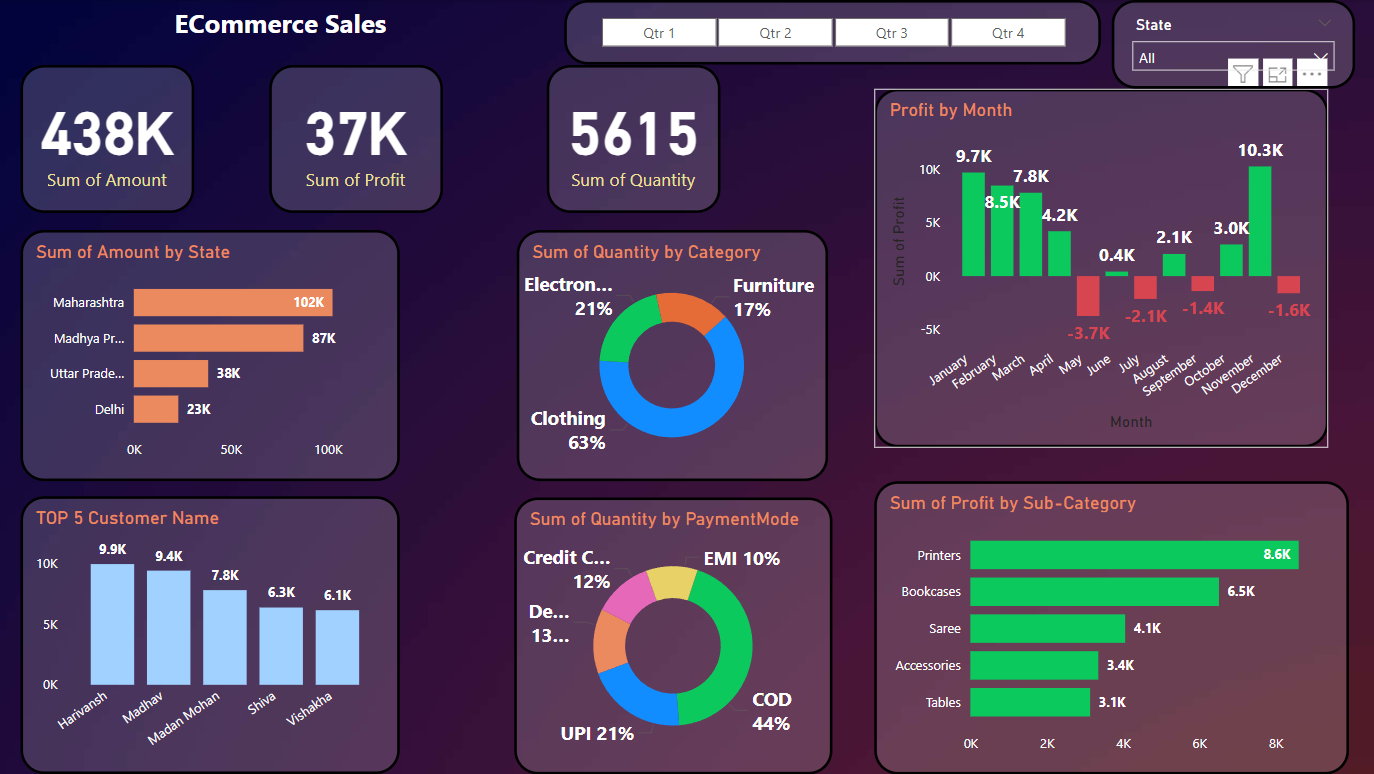

The page's visual inventory and layout, read from the dashboard file:
{"tool":"powerbi","page":{"name":"Page 1","canvas":[1280,720],"ordinal":0},"visuals":[{"type":"columnChart","title":"Profit by Month","fields":{"Category":["Orders.Order Date.Variation.Date Hierarchy.Month"],"Y":["Details.Profit"]},"box":[815.1,82.3,422.6,333.4],"z":0},{"type":"textbox","box":[159.2,0,227.8,45.3],"z":1000},{"type":"barChart","fields":{"Category":["Details.Sub-Category"],"Y":["Details.Profit"]},"box":[815.1,447.3,441.9,273.1],"z":2000},{"type":"donutChart","fields":{"Y":["Details.Quantity"],"Category":["Details.Category"]},"box":[483,214.1,289.5,233.3],"z":3000},{"type":"donutChart","fields":{"Y":["Details.Quantity"],"Category":["Details.PaymentMode"]},"box":[480.3,462.4,296.4,258],"z":4000},{"type":"card","fields":{"Values":["Details.Amount"]},"box":[20.6,60.4,161.9,137.2],"z":5000},{"type":"card","fields":{"Values":["Details.Profit"]},"box":[252.5,60.4,161.9,137.2],"z":6000},{"type":"card","fields":{"Values":["Details.Quantity"]},"box":[510.5,60.4,161.9,137.2],"z":7000},{"type":"clusteredBarChart","fields":{"Category":["Orders.State"],"Y":["Details.Amount"]},"box":[20.6,214.1,352.7,233.3],"z":8000},{"type":"slicer","fields":{"Values":["Orders.Order Date.Variation.Date Hierarchy.Quarter"]},"box":[526.9,0,499.5,60.4],"z":8001},{"type":"slicer","fields":{"Values":["Orders.State"]},"box":[1036,0,226.4,82.3],"z":8002},{"type":"columnChart","title":"TOP 5 Customer Name","fields":{"Y":["Details.Amount"],"Category":["Orders.CustomerName"]},"box":[21,462,353,258],"z":8003}]}

Visuals, with their boxes in screenshot pixels (x1, y1, x2, y2), scaled from the page's 1280x720 canvas onto the 1374x774 screenshot:
"Profit by Month" columnChart: 875, 88, 1329, 447
textbox: 171, 0, 415, 49
barChart - Details.Sub-Category x Details.Profit: 875, 481, 1349, 773
donutChart - Details.Quantity x Details.Category: 518, 230, 829, 481
donutChart - Details.Quantity x Details.PaymentMode: 516, 497, 834, 773
card - Details.Amount: 22, 65, 196, 212
card - Details.Profit: 271, 65, 445, 212
card - Details.Quantity: 548, 65, 722, 212
clusteredBarChart - Orders.State x Details.Amount: 22, 230, 401, 481
slicer - Orders.Order Date.Variation.Date Hierarchy.Quarter: 566, 0, 1102, 65
slicer - Orders.State: 1112, 0, 1355, 88
"TOP 5 Customer Name" columnChart: 23, 497, 401, 773
